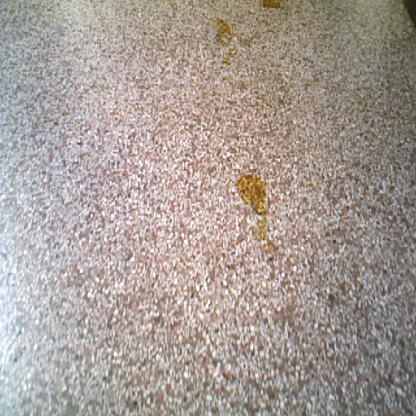liquid: (234, 172, 268, 216), (252, 217, 272, 253), (214, 19, 231, 47), (221, 49, 236, 65), (262, 1, 284, 9)
